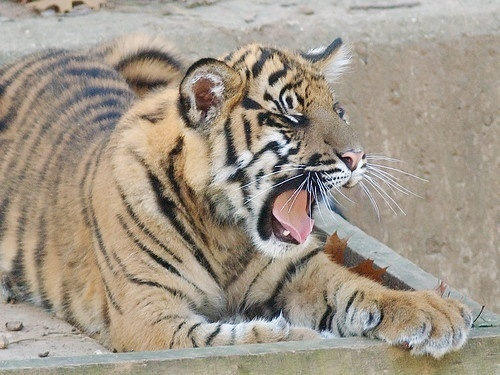tigre: (1, 32, 476, 360)
